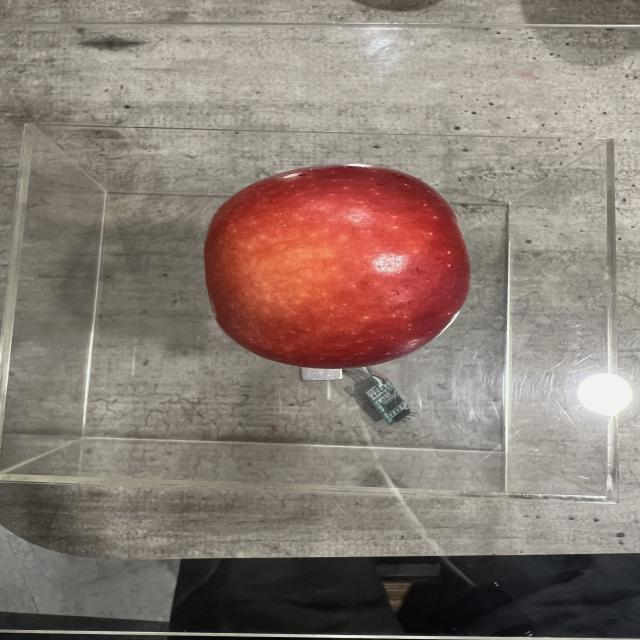red apple: (204, 168, 470, 366)
